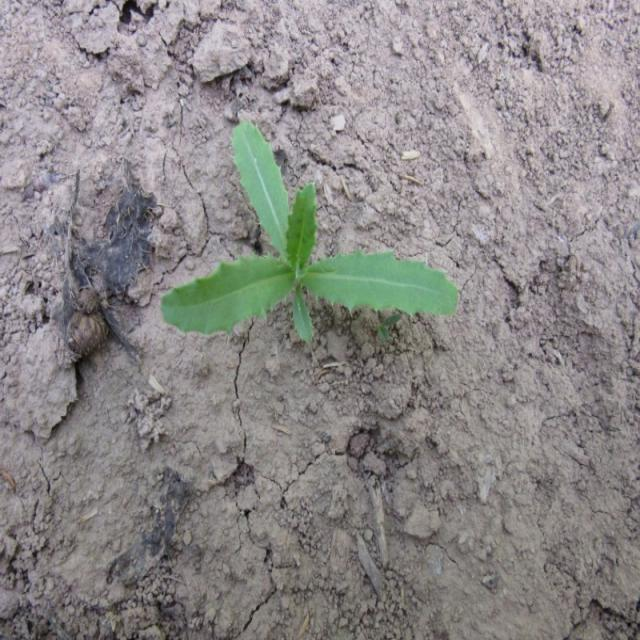cs: (158, 110, 464, 352)
